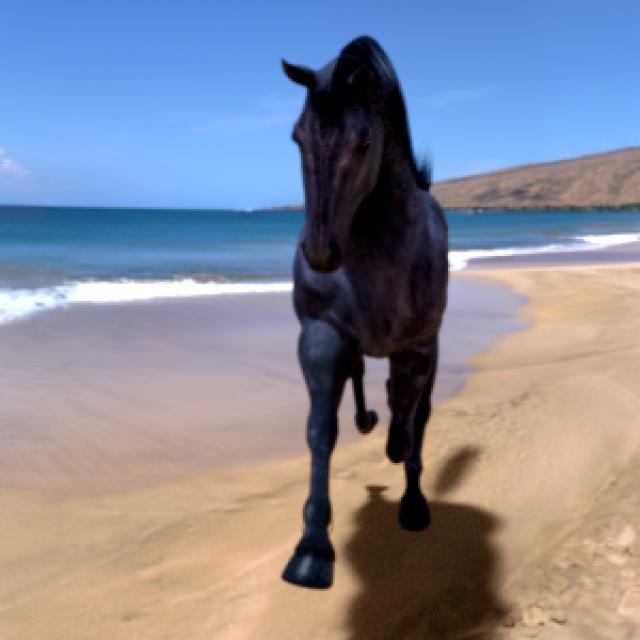horse: (281, 36, 446, 588)
